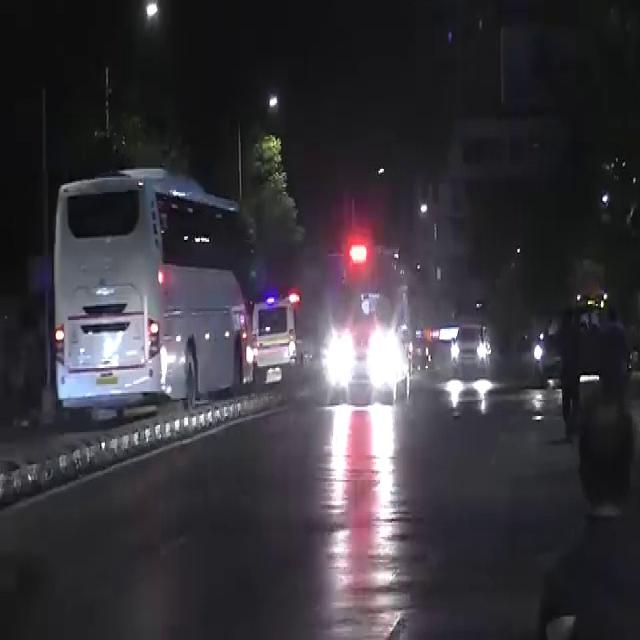ambulance: (313, 236, 419, 422)
